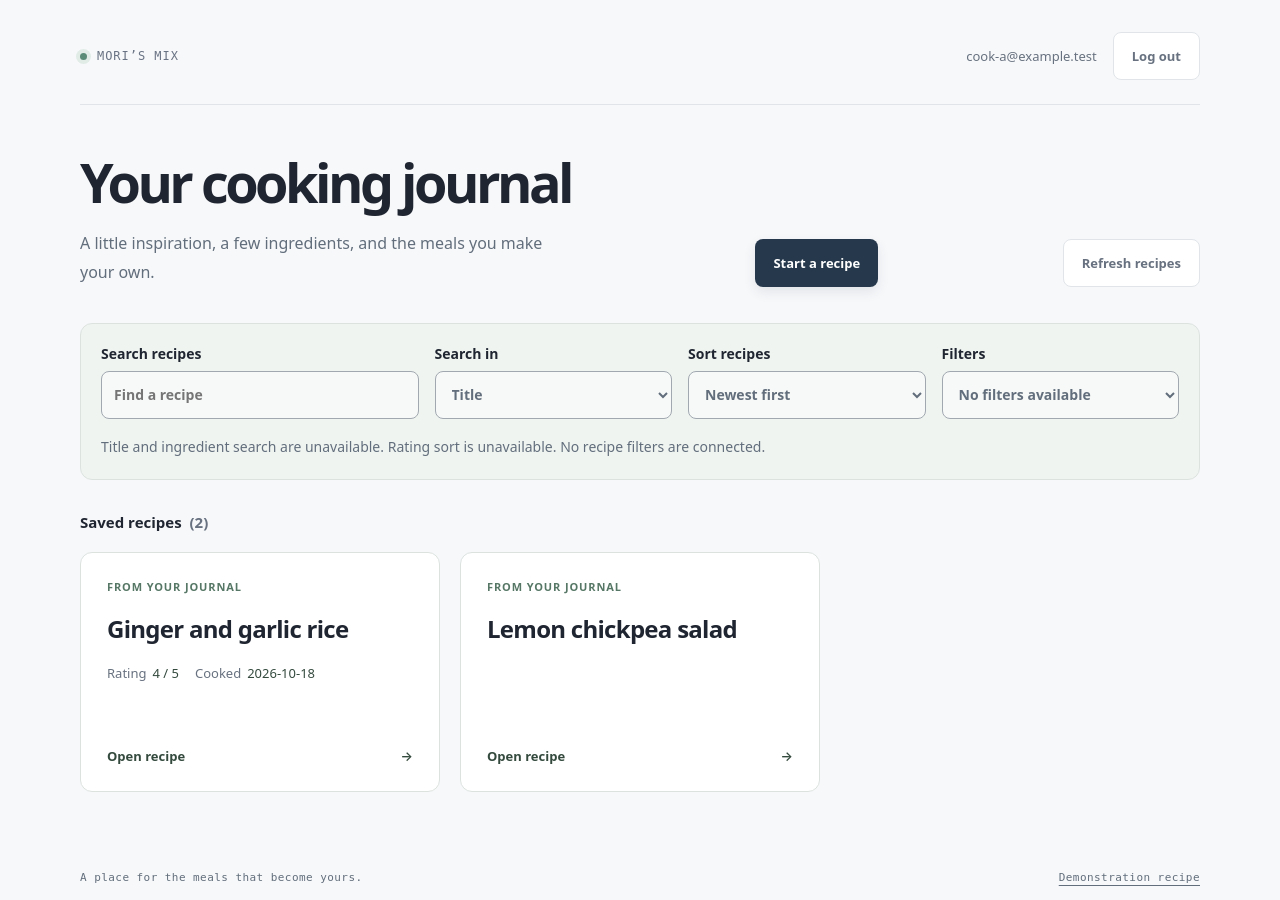
Scenario: does not retry a collection HTTP 401 or show cached recipes after access is denied
Expected: the heading "Ginger and garlic rice" is shown, [107,612,348,645]
Click the button "Refresh recipes" at (1131, 263), box [1063,239,1200,287]
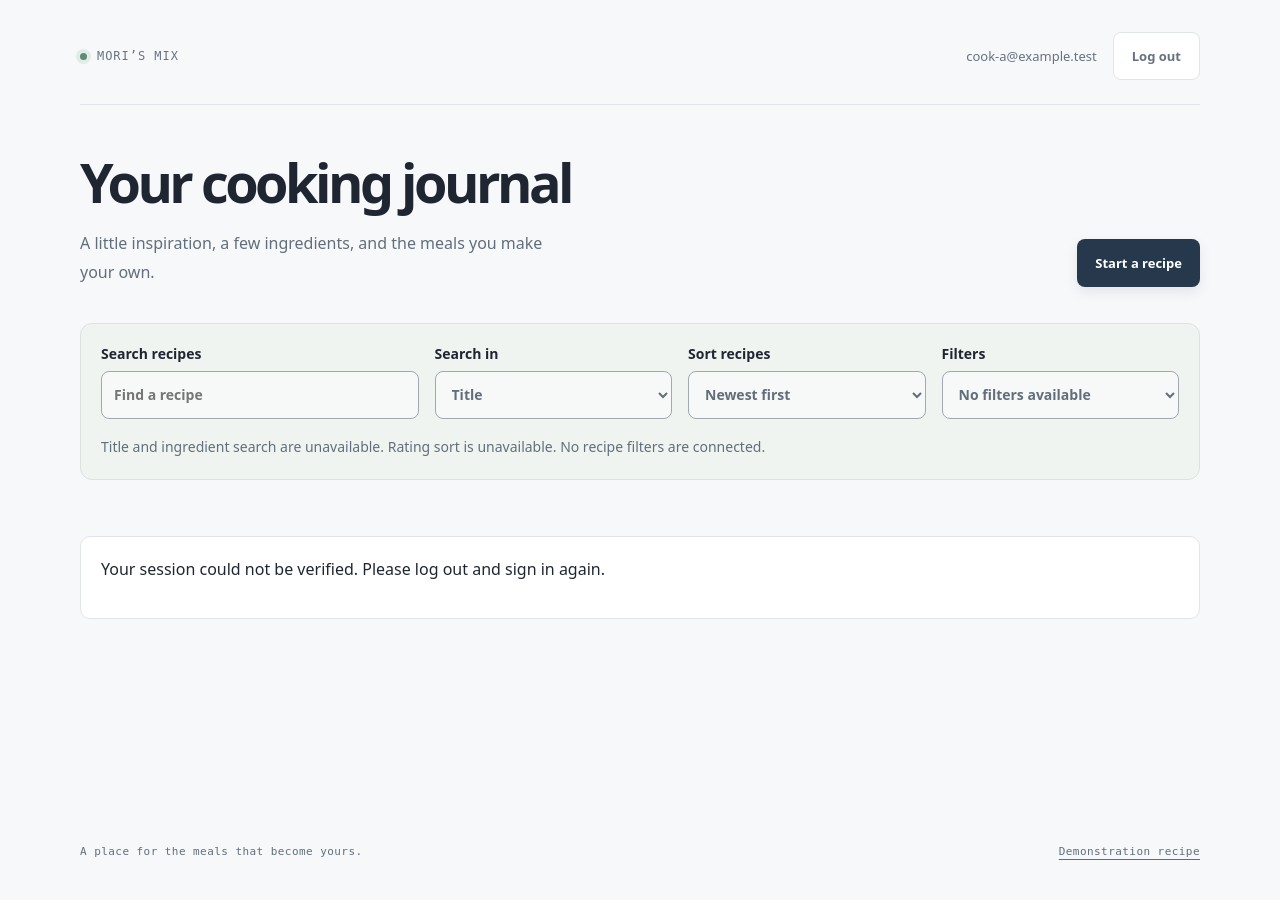
Expected: the button "Log out" is shown, [1113,32,1200,80]
Now the message shows "session could not be verified", box [101,558,605,580]
Now the link "Ginger and garlic rice" is gone
